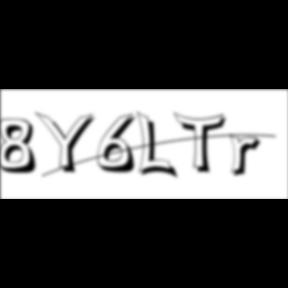6: (98, 112, 142, 176)
8: (1, 117, 44, 176)
L: (137, 110, 181, 182)
T: (174, 112, 232, 176)
Y: (34, 110, 102, 176)
r: (230, 134, 268, 180)
